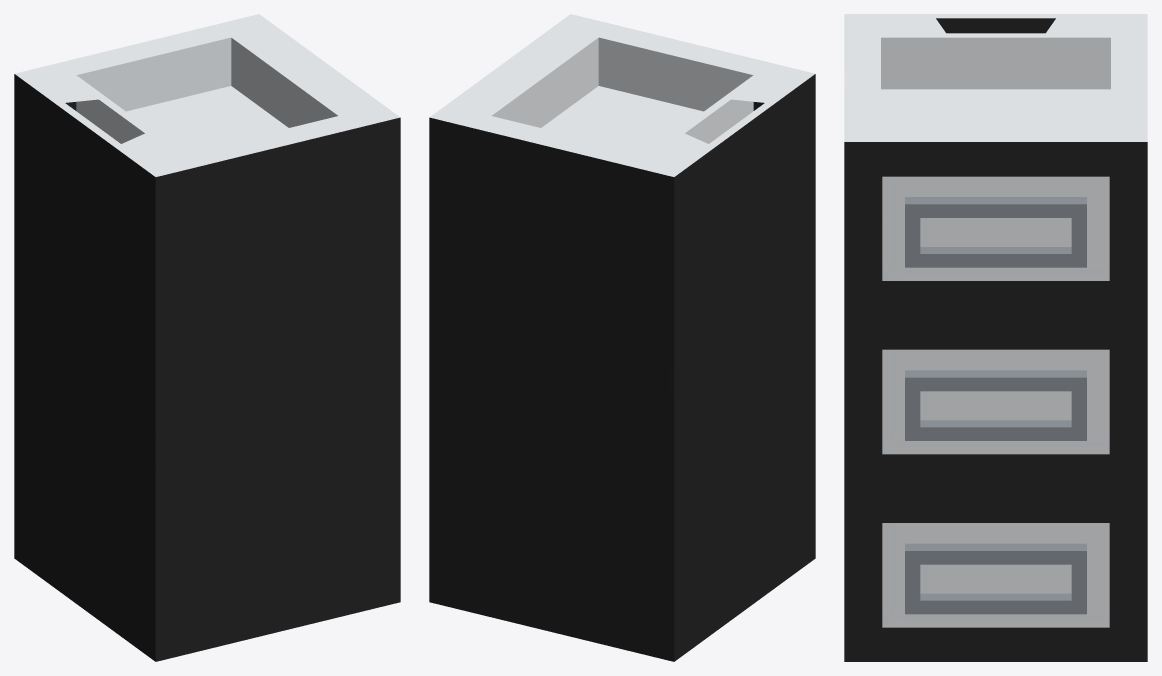
The model's file is Sink(Without SinkHead).fbx.
The picture shows the model from 3 angles, left to right: view 1: azimuth 30°, elevation 25°; view 2: azimuth 150°, elevation 25°; view 3: azimuth 270°, elevation 25°; orthographic projection. The views are drawn at different scales.
Visible parts, largest first — view 1: Cube.001; view 2: Cube.001; view 3: Cube.001.
Boxes of the visible parts, left/top/right/bottom form: Cube.001: left=14, top=14, right=400, bottom=661; Cube.001: left=429, top=14, right=815, bottom=661; Cube.001: left=844, top=14, right=1147, bottom=661.
Bounding box in the file's own units: 364 × 651 × 344.
